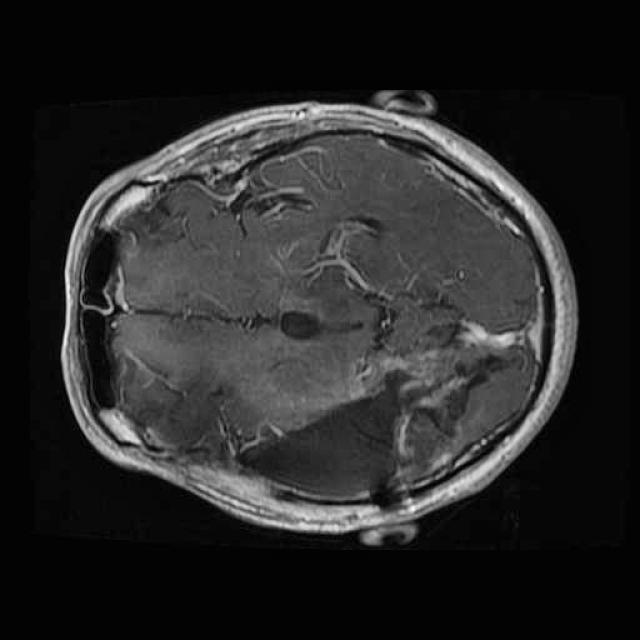Non-Tumor: (218, 345, 506, 514)
